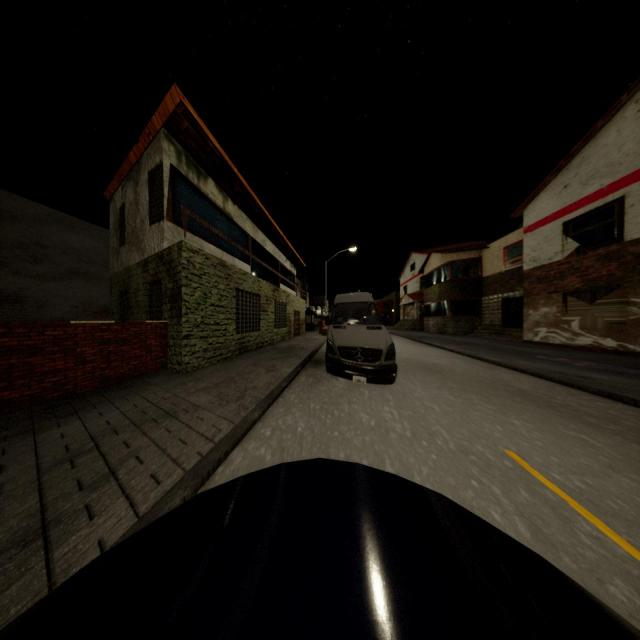Vehicle: (3, 453, 640, 640), (325, 292, 397, 383)
